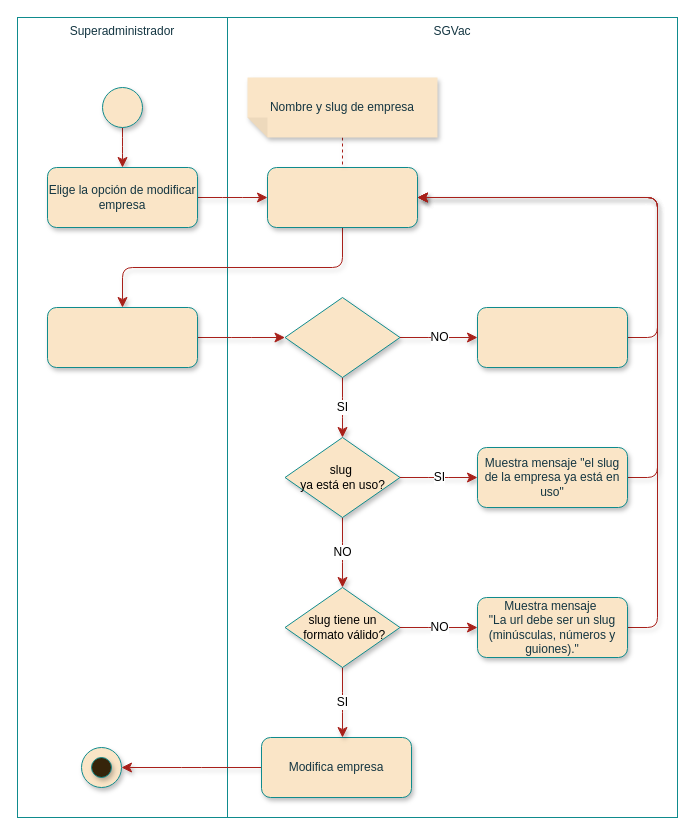
This 695x835 diagram has some shape labels left out. The shapes that lost their labels are listed below. From the top down, each one's centre as x and y in pixels, then its label:
the point at 343,198: Muestra formulario con la información de la empresa precargada
the point at 123,338: Ingresa datos
the point at 343,338: Ingresó datos obligatorios?
the point at 553,338: Muestra mensaje faltan datos obligatorios
